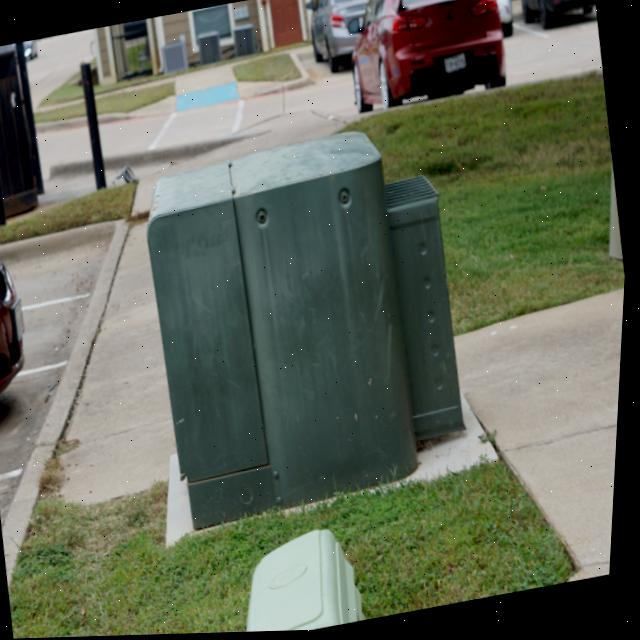Automobile: (307, 0, 514, 115), (0, 258, 28, 398), (522, 0, 596, 32)
Obstacle: (150, 134, 480, 539), (254, 532, 372, 633), (81, 63, 109, 190), (612, 169, 626, 264), (0, 167, 8, 227)
Road: (0, 223, 123, 531), (101, 48, 360, 158), (504, 12, 604, 89), (28, 30, 94, 113), (38, 116, 93, 179)
Sidewalk: (459, 293, 627, 586), (66, 223, 182, 504), (130, 65, 312, 120)
